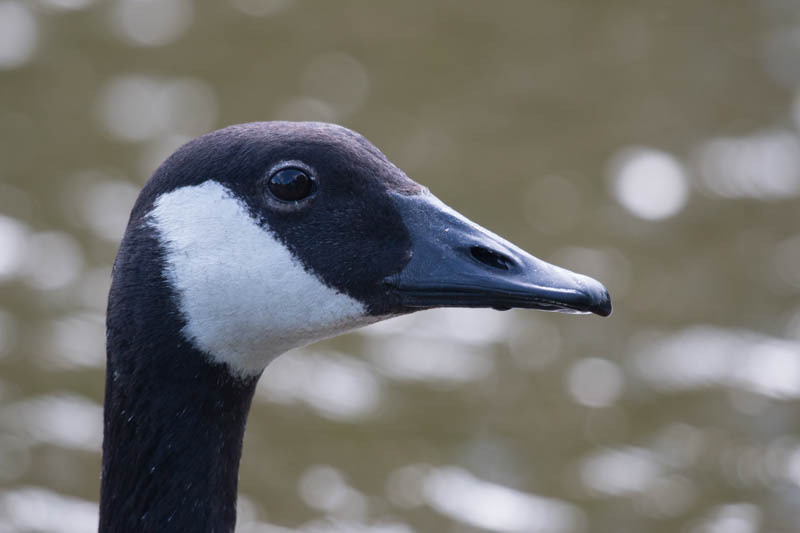goose-head: (106, 121, 611, 378)
